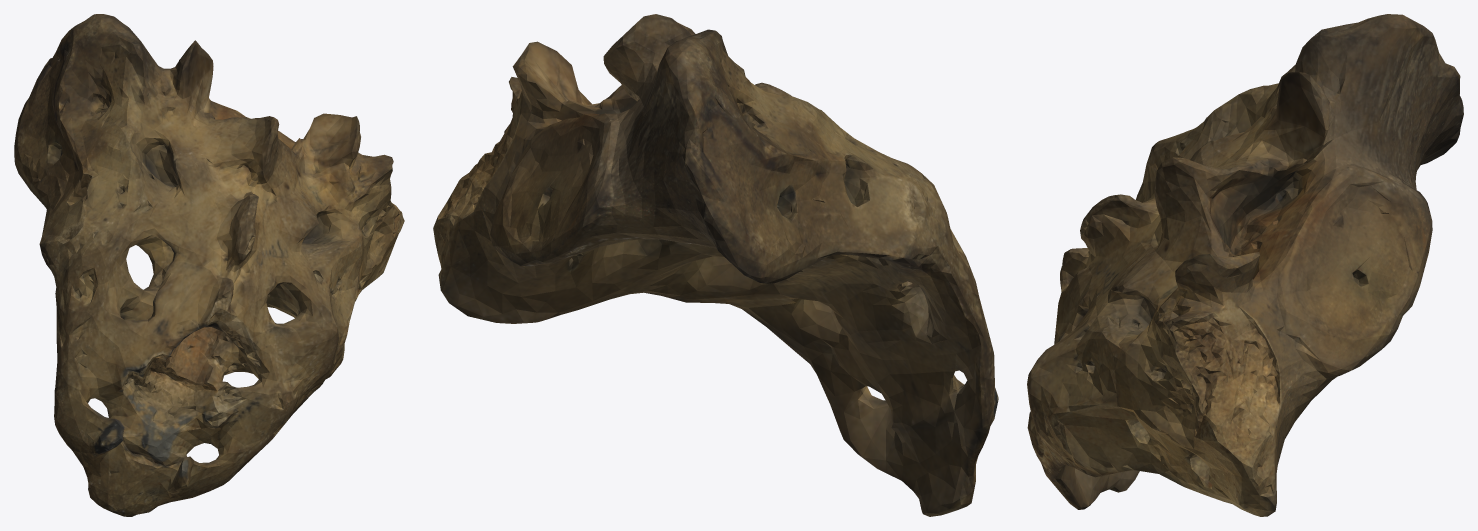
Rendered from krest_LP.obj.
3 renders of one model, left to right at view 1: azimuth 30°, elevation 25°; view 2: azimuth 150°, elevation 25°; view 3: azimuth 270°, elevation 25°, orthographic. The views are drawn at different scales.
Parts seen in each view (by area): view 1: LP; view 2: LP; view 3: LP.
Part boxes in pixels (x1,y1,x2,y2): LP: (14, 14, 404, 516); LP: (433, 14, 998, 516); LP: (1027, 14, 1463, 516).
Size of the model in its own units: 119 by 121 by 91.47.
